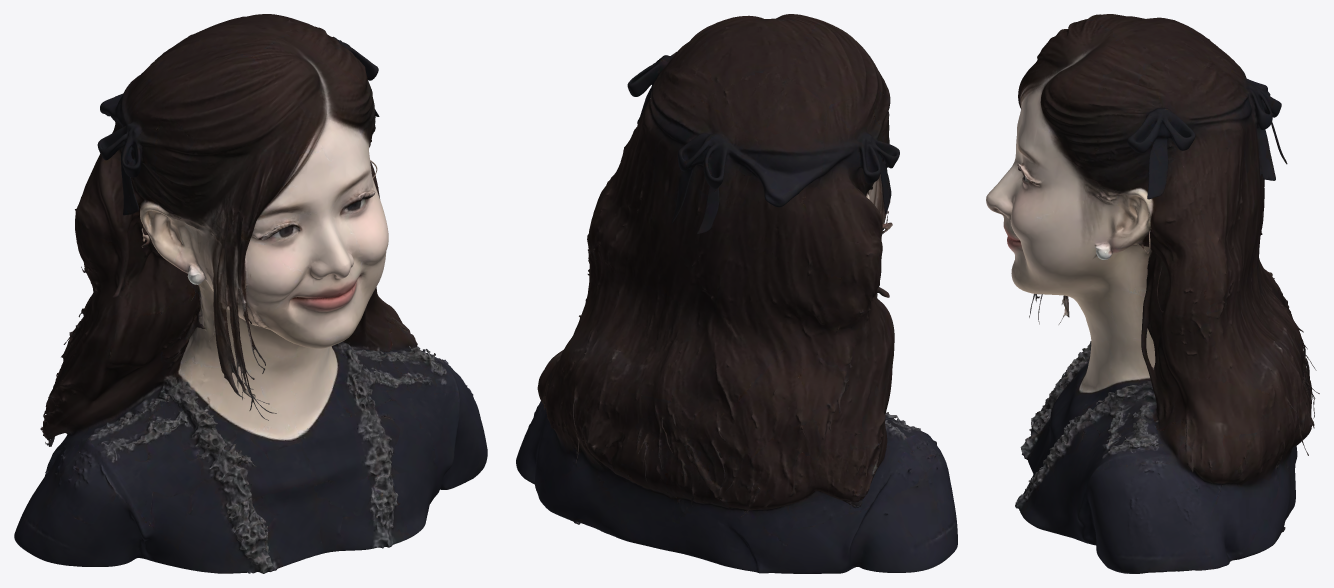
Rendered from ImNayeon_face.glb.
The picture shows the model from 3 angles, left to right: view 1: azimuth 30°, elevation 25°; view 2: azimuth 150°, elevation 25°; view 3: azimuth 270°, elevation 25°; orthographic projection. The views are drawn at different scales.
Bounding box in the file's own units: 1.8 × 1.9 × 1.28.
1 material, 1 textured.
